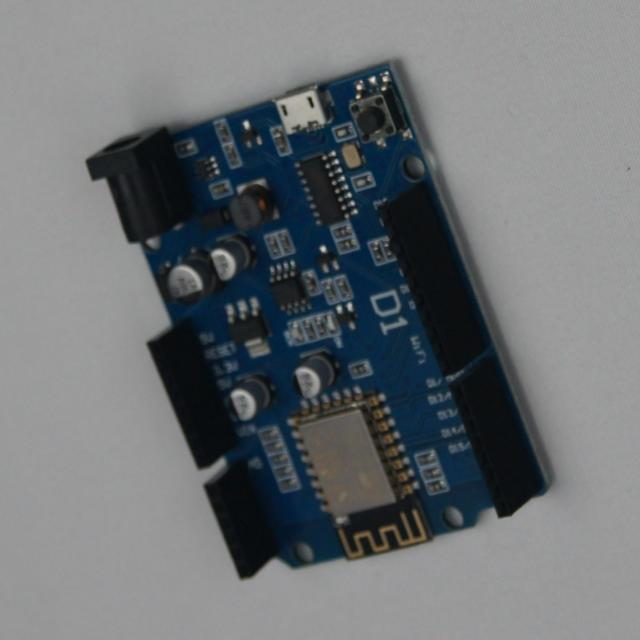Arduino Uno WiFi Shield: (87, 63, 551, 579)
